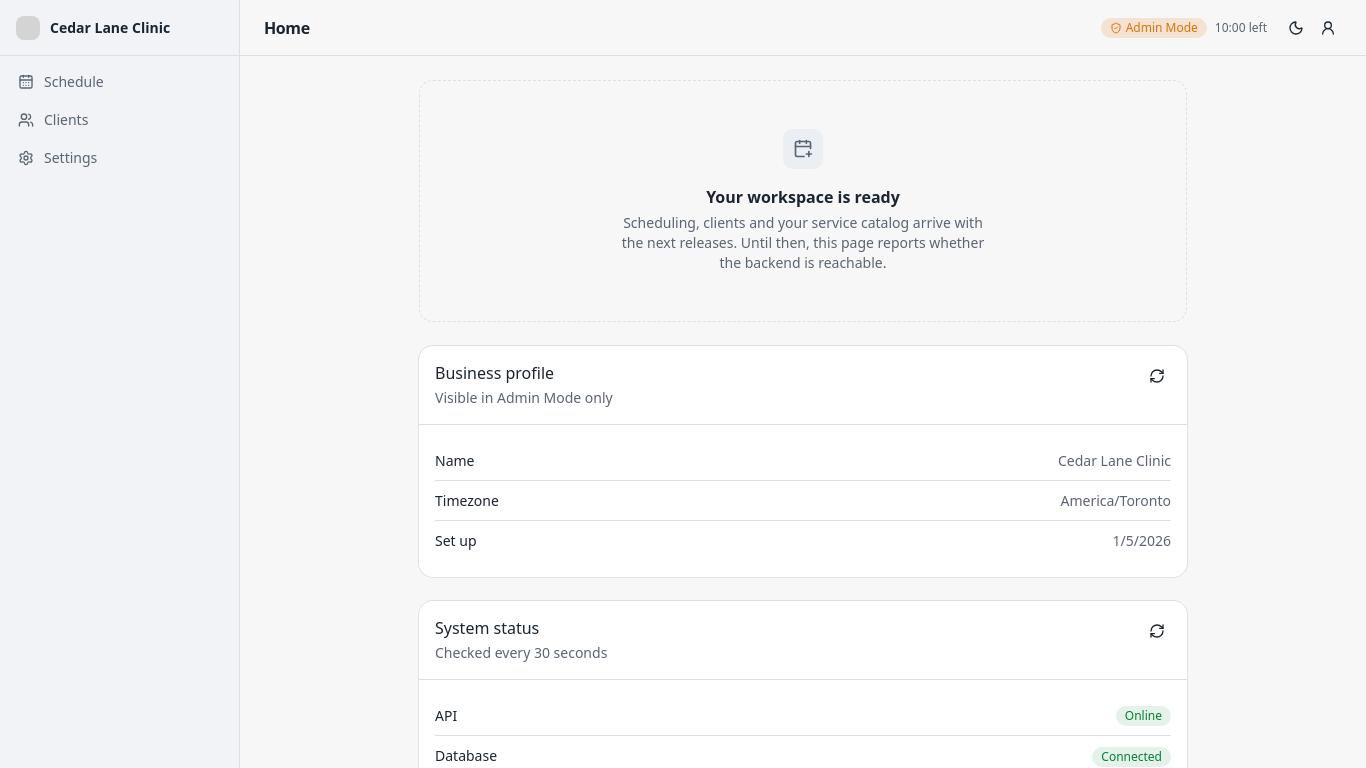
Test: a 401 from the API ends the session and returns to the login screen
The width and height of the screenshot is (1366, 768).
expect the text "Business profile" is shown: met, box [435,362,554,384]
Click the button named "Refresh business profile": coordinates (1157, 376) [1143,362,1171,390]
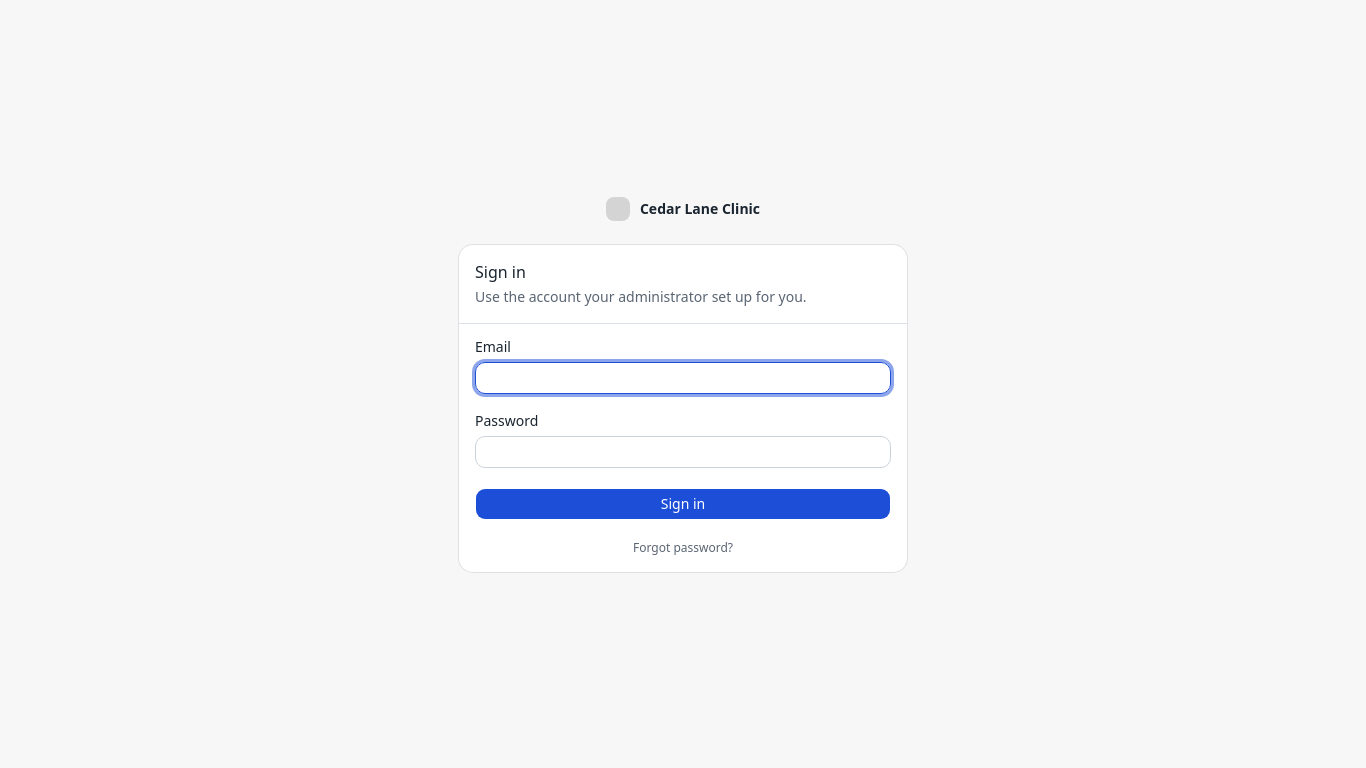
expect the button "Sign in" is shown: met, box [475,488,891,520]
